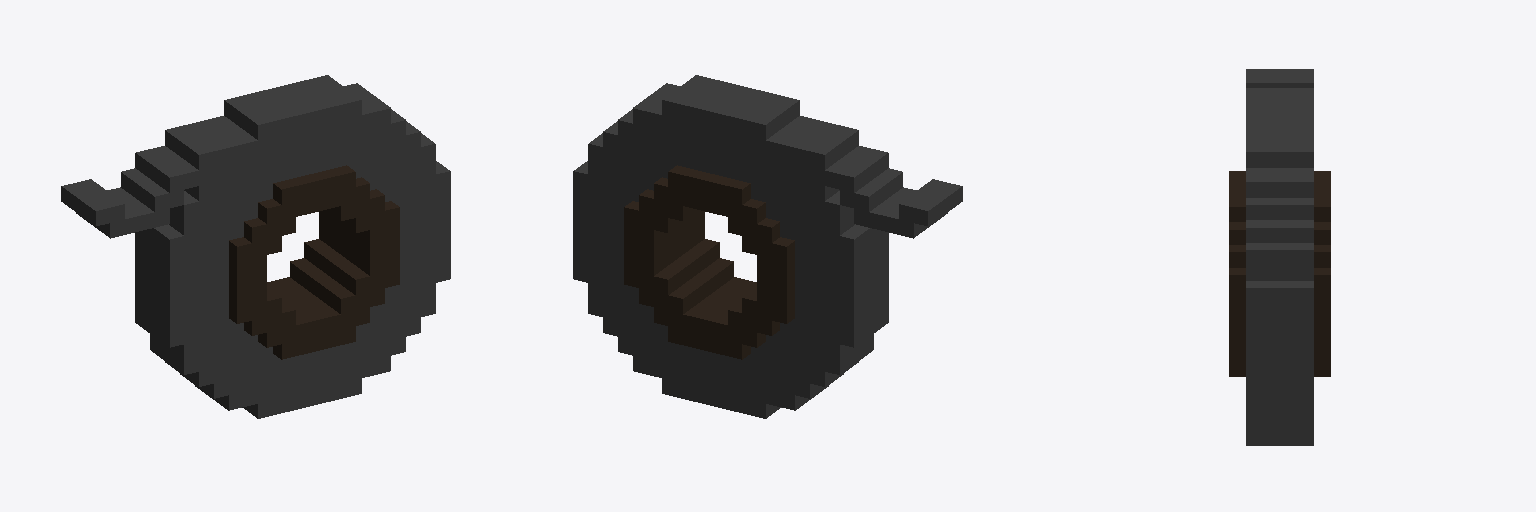
3 views of the same model, side by side, from view 1: azimuth 30°, elevation 25°; view 2: azimuth 150°, elevation 25°; view 3: azimuth 270°, elevation 25° (orthographic).
Parts seen in each view (by area): view 1: object 1; view 2: object 1; view 3: object 1.
Part boxes in pixels (bbox=[...]): object 1: bbox=[61, 75, 450, 418]; object 1: bbox=[573, 75, 962, 418]; object 1: bbox=[1229, 69, 1330, 445].
Size of the model in its own units: 2.4 by 1.9 by 0.6.
1 materials, 1 textured.